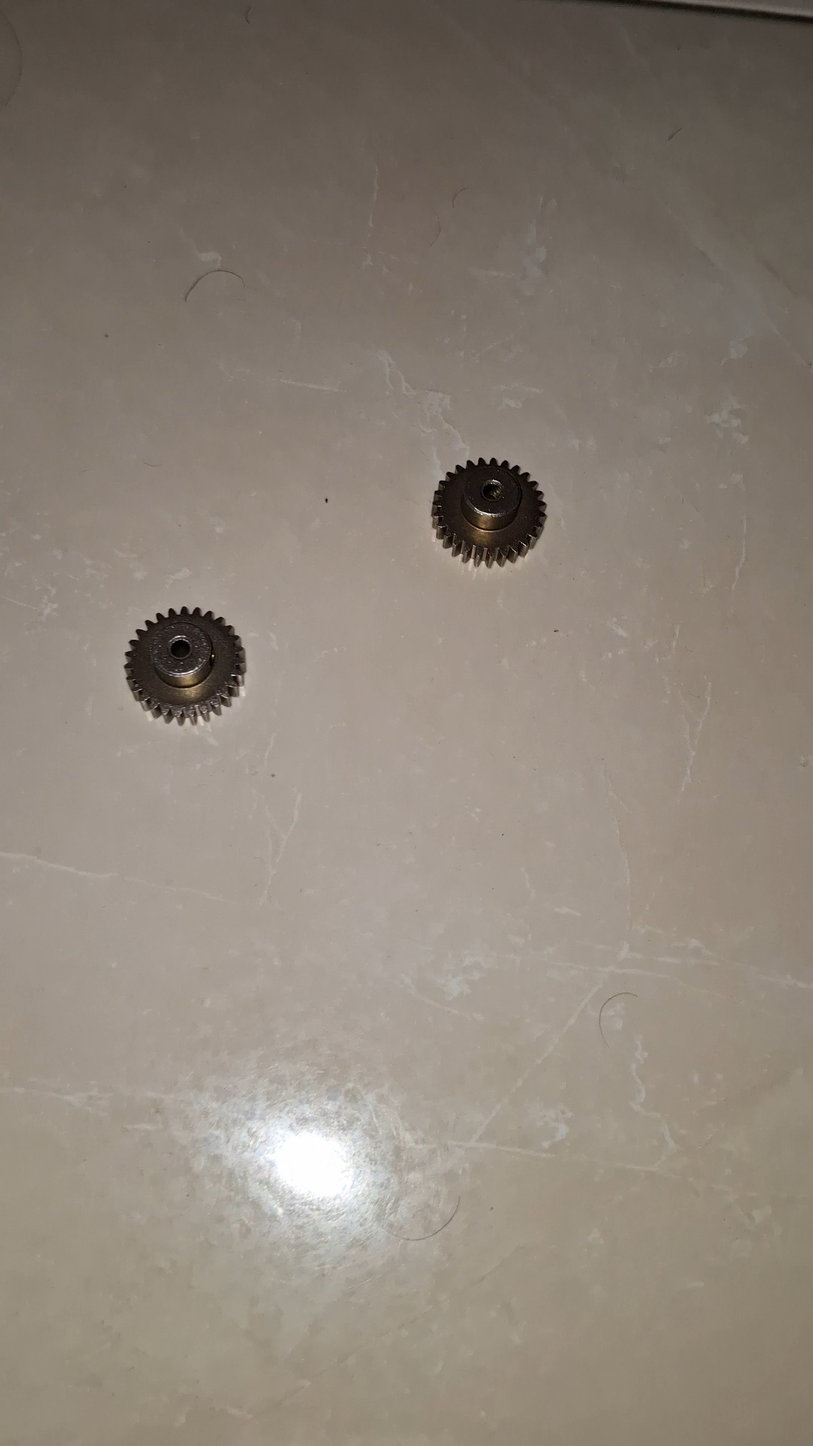spur gear: (125, 608, 245, 723), (432, 458, 545, 566)
